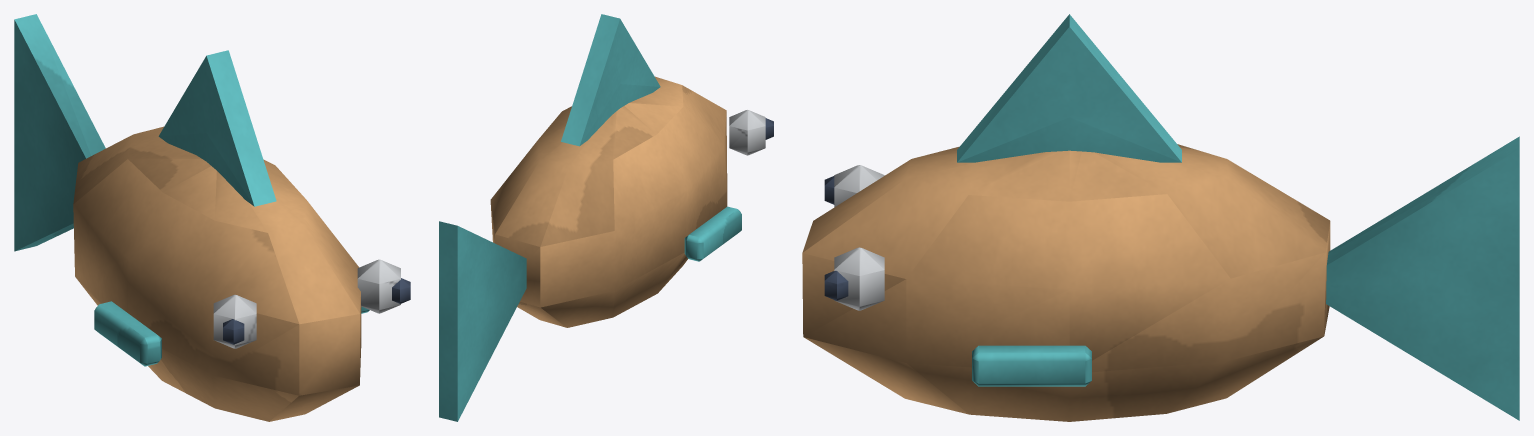
Rendered from reef_fish.glb.
3 renders of one model, left to right at view 1: azimuth 30°, elevation 25°; view 2: azimuth 150°, elevation 25°; view 3: azimuth 270°, elevation 25°, orthographic. The views are drawn at different scales.
Parts seen in each view (by area): view 1: DL019_ReefFish_coral_orange, DL019_ReefFish_coral_turq, DL019_ReefFish_hull_offwhite, DL019_ReefFish_graphite_navy; view 2: DL019_ReefFish_coral_orange, DL019_ReefFish_coral_turq, DL019_ReefFish_hull_offwhite; view 3: DL019_ReefFish_coral_orange, DL019_ReefFish_coral_turq, DL019_ReefFish_hull_offwhite, DL019_ReefFish_graphite_navy.
Part boxes in pixels (x1,y1,x2,y2): DL019_ReefFish_coral_orange: (73, 126, 361, 421); DL019_ReefFish_coral_turq: (14, 14, 369, 366); DL019_ReefFish_hull_offwhite: (213, 259, 400, 348); DL019_ReefFish_graphite_navy: (223, 278, 410, 344); DL019_ReefFish_coral_orange: (490, 76, 727, 327); DL019_ReefFish_coral_turq: (439, 14, 741, 421); DL019_ReefFish_hull_offwhite: (729, 110, 765, 155); DL019_ReefFish_coral_orange: (802, 144, 1330, 421); DL019_ReefFish_coral_turq: (957, 14, 1519, 420); DL019_ReefFish_hull_offwhite: (834, 165, 884, 310); DL019_ReefFish_graphite_navy: (824, 176, 848, 300).
Size of the model in its own units: 0.42 by 0.58 by 0.9561.
Materials: 4 (4 with a texture image).
